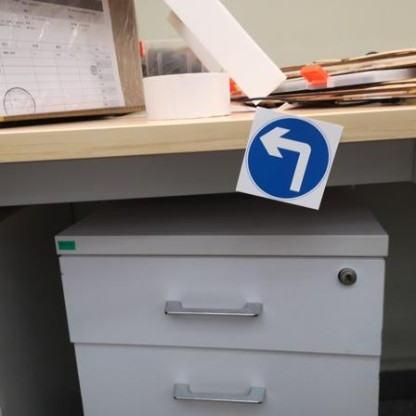left: (237, 104, 336, 208)
